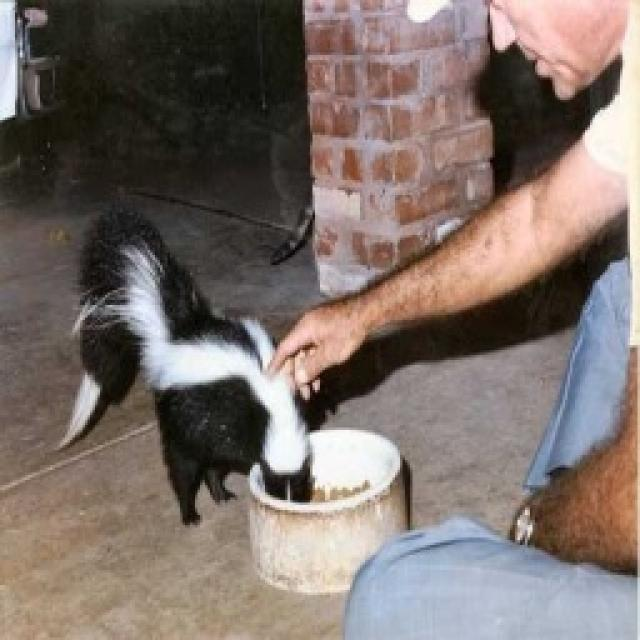not_pig: (52, 203, 320, 525)
